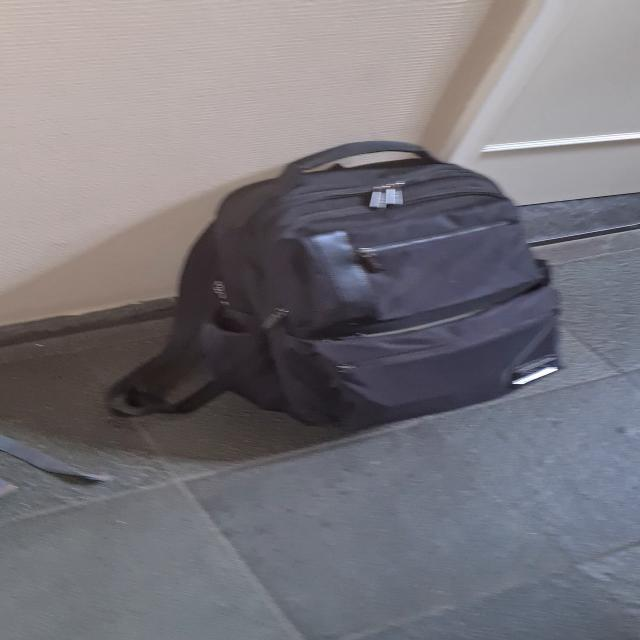backpack: (205, 137, 577, 442)
